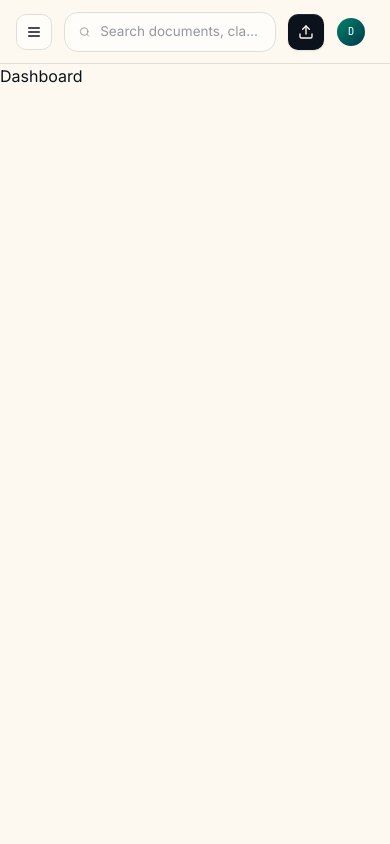
Test case: dashboard sidebar drawer › opens on hamburger click
Click the button named "open navigation" at [34, 32], box [16, 14, 52, 50]
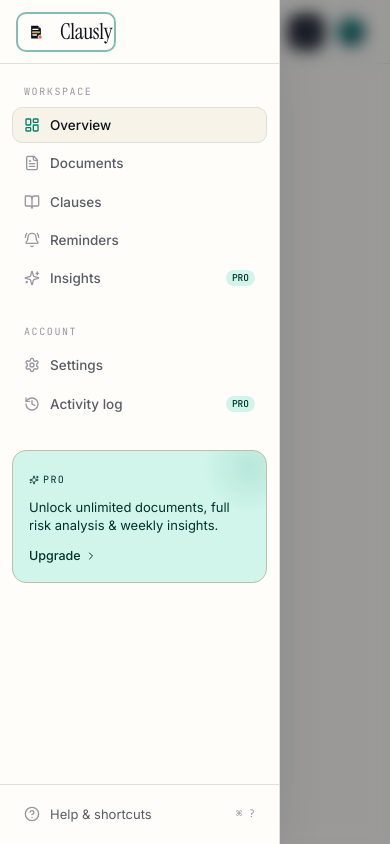
Check: the dialog named "dashboard navigation" is shown
